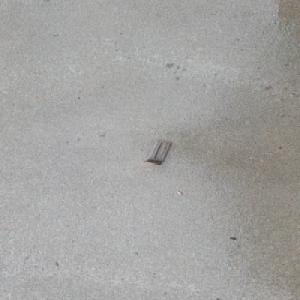MetalPart: (142, 140, 172, 165)
